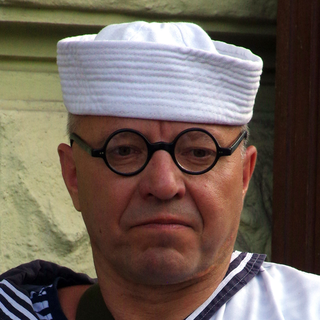eye: (101, 138, 146, 163), (172, 143, 217, 162)
